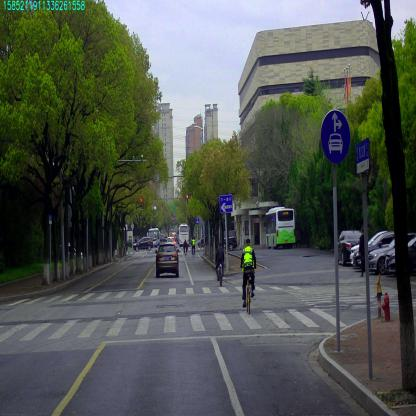traffic-light: (140, 198, 143, 209), (186, 194, 189, 205)
